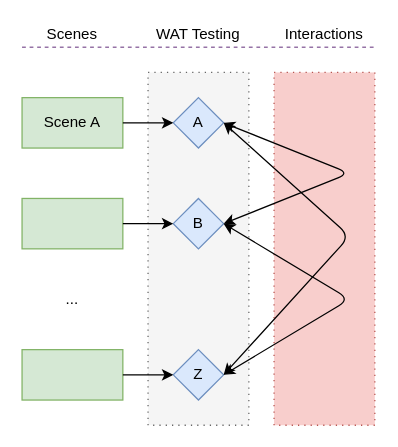
The diagram is 398 pixels wide and 447 high, and some of its shapes have lost their labels. Here are the shapes that lost their labels. From the top down, the centre of each, then its label:
the point at 72,223: Scene B
the point at 72,374: Scene Z
